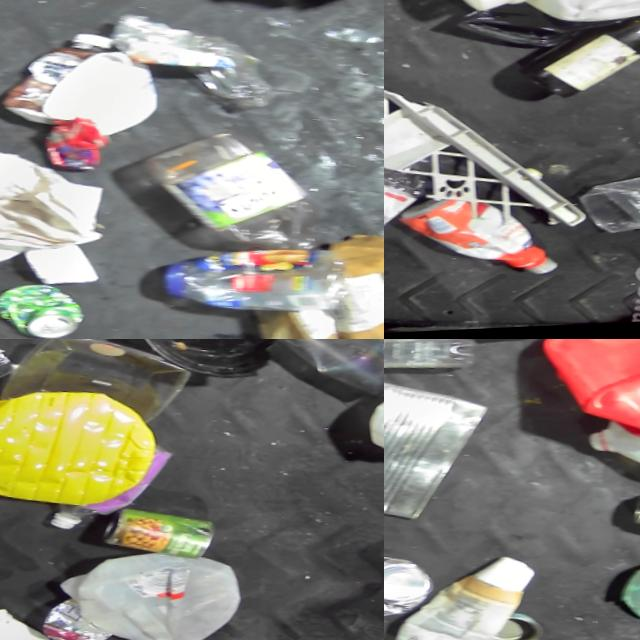can: (97, 5, 297, 123), (109, 508, 229, 563), (0, 279, 101, 339), (384, 544, 440, 632)
milk_jug: (65, 538, 266, 640), (569, 394, 640, 501)
non_white_jug: (0, 374, 174, 517)
plastic_bottle: (384, 339, 484, 398)
